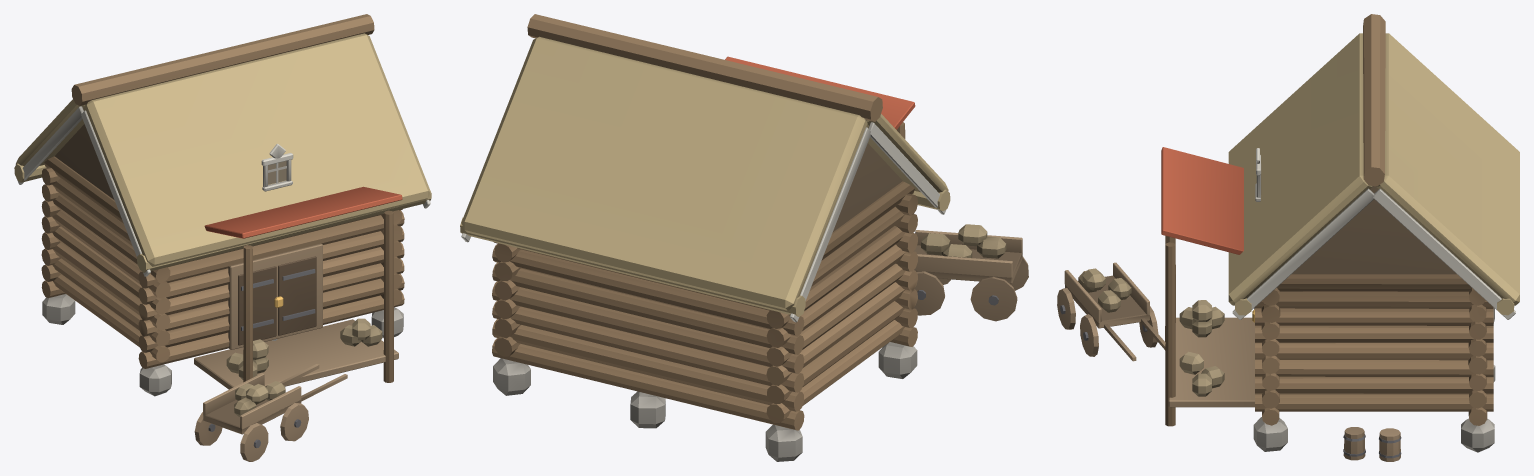
Rendered from bld_ambar.glb.
The picture shows the model from 3 angles, left to right: view 1: azimuth 30°, elevation 25°; view 2: azimuth 150°, elevation 25°; view 3: azimuth 270°, elevation 25°; orthographic projection. The views are drawn at different scales.
Parts seen in each view (by area): view 1: ambar; view 2: ambar; view 3: ambar.
Boxes of the visible parts, x1,y1,x2,y2 form: ambar: [14, 14, 431, 461]; ambar: [460, 14, 1028, 461]; ambar: [1057, 14, 1519, 461].
Size of the model in its own units: 1.84 by 1.66 by 2.35.
